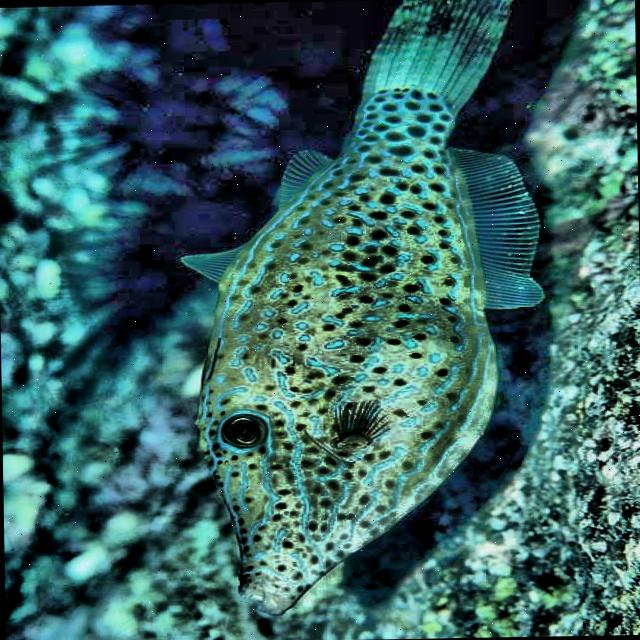fish: (175, 0, 552, 618)
